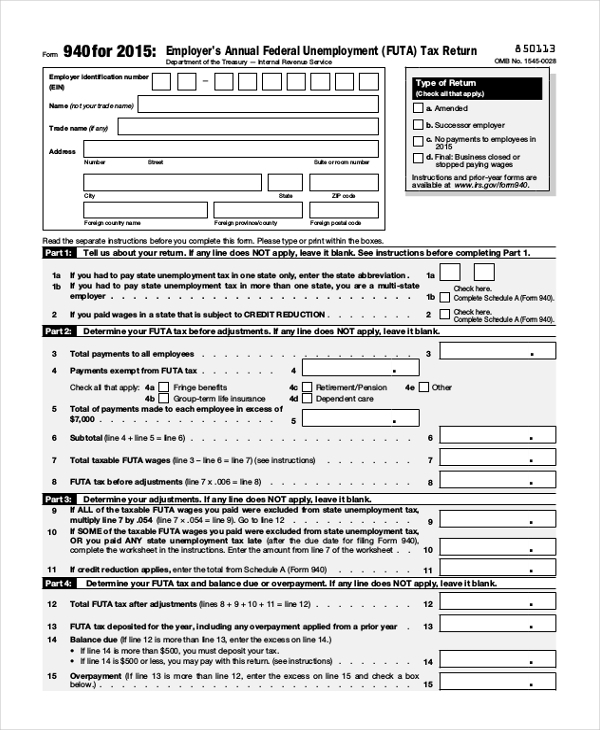checkbox: (411, 100, 425, 115), (411, 117, 425, 132), (411, 134, 425, 149), (411, 150, 425, 165), (438, 289, 452, 304), (438, 306, 452, 321), (417, 379, 431, 394), (300, 378, 314, 393), (300, 390, 314, 405), (156, 379, 170, 394), (156, 390, 170, 405)
textbox: (81, 138, 381, 159), (116, 115, 381, 136), (135, 93, 380, 114), (82, 172, 263, 192), (300, 354, 422, 379), (437, 338, 560, 362), (300, 406, 423, 429), (437, 422, 560, 445), (437, 445, 560, 468), (437, 467, 560, 490), (437, 507, 560, 530), (437, 535, 560, 558), (437, 556, 560, 579), (437, 589, 560, 612), (436, 611, 559, 634), (436, 647, 559, 670), (437, 669, 560, 692), (81, 199, 210, 220), (211, 199, 306, 220), (307, 172, 381, 193), (307, 199, 381, 220), (266, 172, 305, 192), (436, 261, 463, 283), (471, 261, 498, 283), (150, 71, 173, 92), (175, 71, 198, 92), (213, 71, 236, 92), (236, 71, 259, 92), (260, 71, 283, 92), (284, 71, 307, 92), (309, 70, 332, 91), (333, 71, 356, 92), (357, 71, 380, 92)
